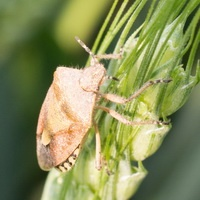insect: (37, 37, 171, 171)
